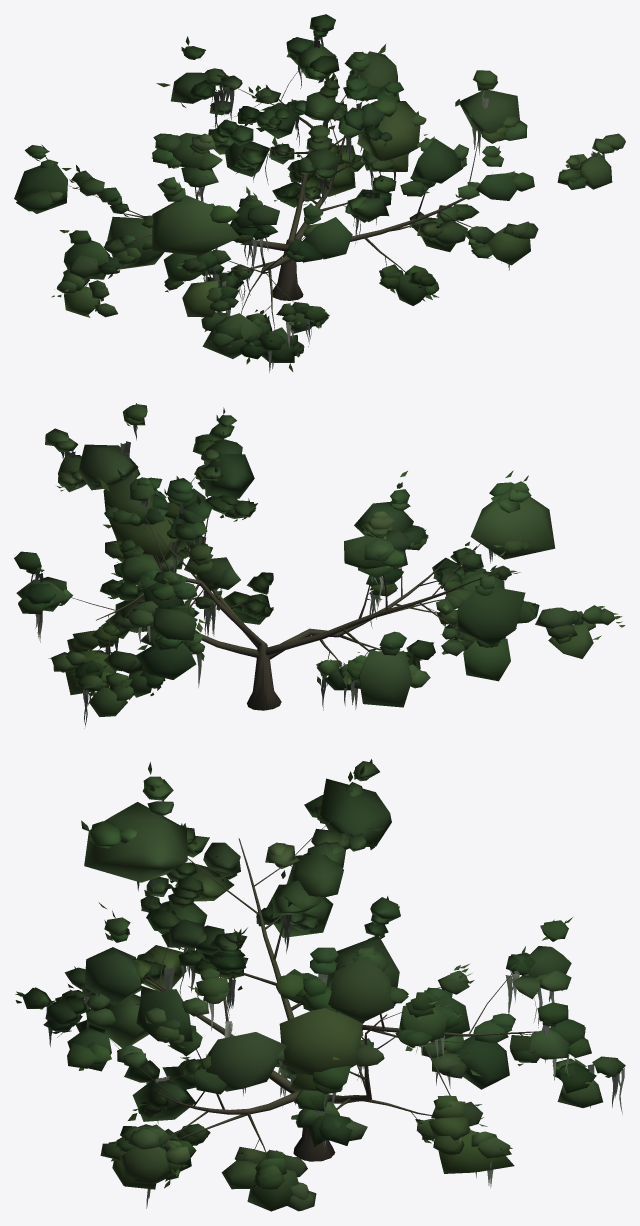
The model's file is live-oak.glb.
3 renders of one model, top to bottom at view 1: azimuth 30°, elevation 25°; view 2: azimuth 150°, elevation 25°; view 3: azimuth 270°, elevation 25°, orthographic. The views are drawn at different scales.
Parts seen in each view (by area): view 1: live-oak-lo, live-oak; view 2: live-oak-lo, live-oak; view 3: live-oak-lo, live-oak.
Boxes of the visible parts, bbox=[...] form: live-oak-lo: bbox=[14, 37, 612, 371]; live-oak: bbox=[25, 14, 625, 372]; live-oak-lo: bbox=[16, 439, 601, 716]; live-oak: bbox=[14, 403, 625, 728]; live-oak-lo: bbox=[43, 778, 602, 1211]; live-oak: bbox=[15, 759, 625, 1208].
Bounding box in the file's own units: 33.98 × 13.23 × 25.09.
